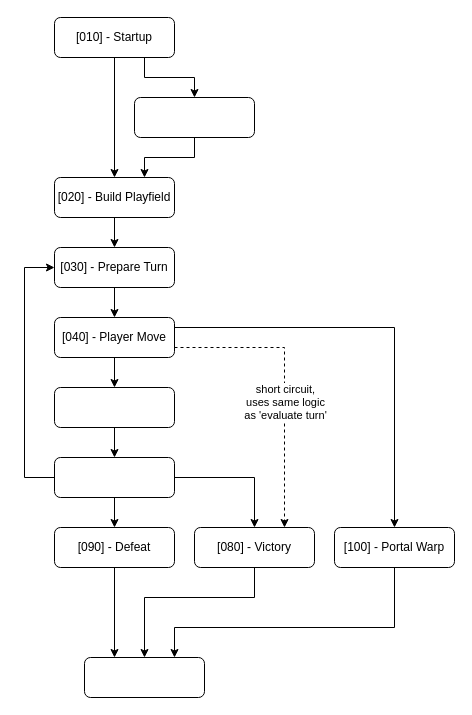
This 472x715 diagram has some shape labels left out. Here are the shapes that lost their labels. From the top down, the box of each, then its label:
(134, 96, 254, 138): [015] - Optional Place
(54, 386, 174, 428): [050] - Opponent Move
(54, 456, 174, 498): [070] - Evaluate Turn
(84, 656, 204, 698): [200] - Shutdown
